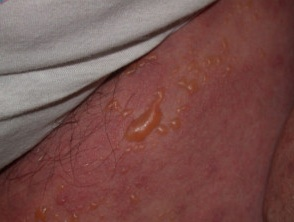SJS-TEN: (73, 5, 258, 178), (30, 177, 144, 222)
